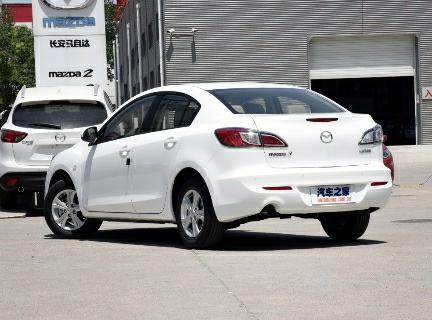car: (32, 78, 400, 251)
